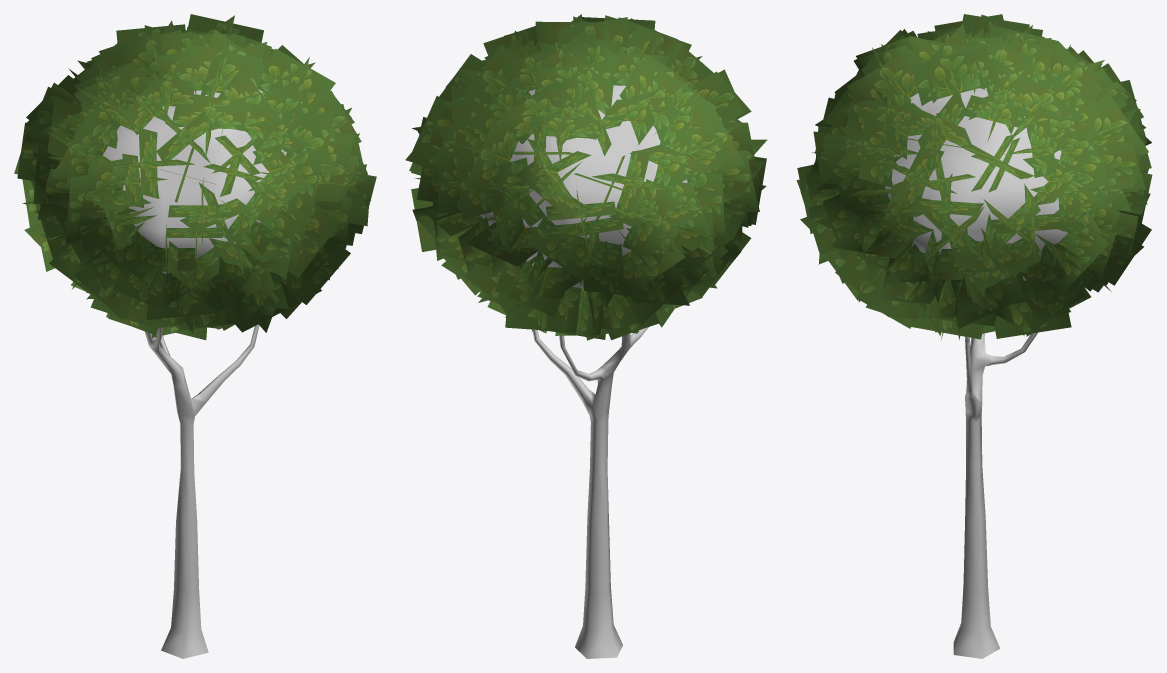
File: Tree_02_LOD1.fbx
The picture shows the model from 3 angles, left to right: view 1: azimuth 30°, elevation 25°; view 2: azimuth 150°, elevation 25°; view 3: azimuth 270°, elevation 25°; orthographic projection. The views are drawn at different scales.
Parts seen in each view (by area): view 1: polySurface19324; view 2: polySurface19324; view 3: polySurface19324.
Part boxes in pixels (x1,y1,x2,y2): polySurface19324: [14, 14, 376, 658]; polySurface19324: [405, 14, 767, 658]; polySurface19324: [796, 14, 1152, 658].
Size of the model in its own units: 477 by 912 by 472.
